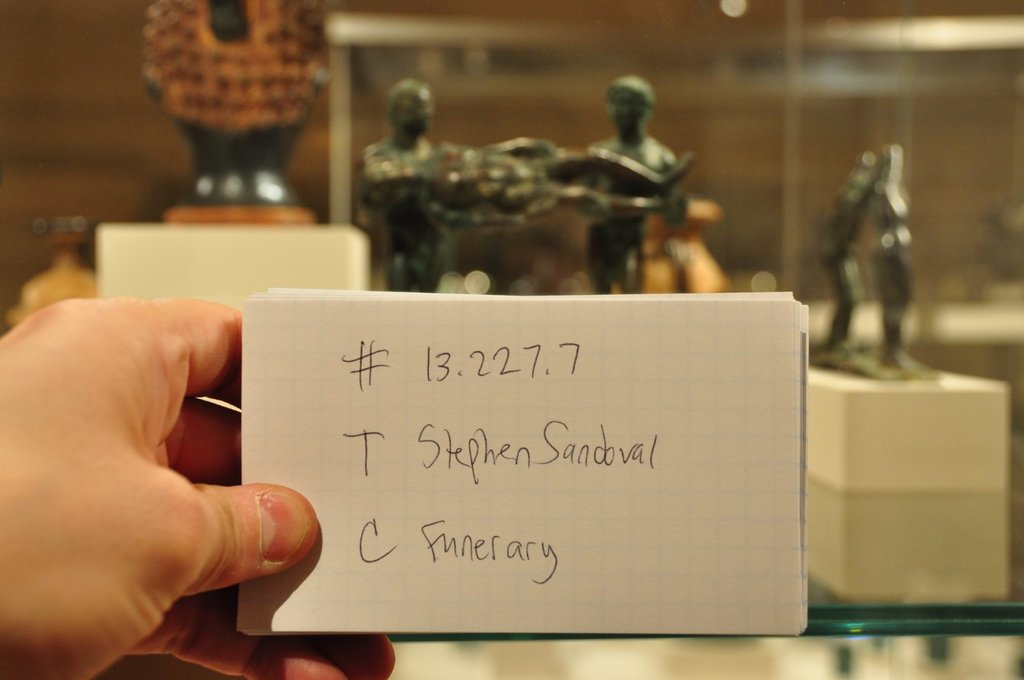Human-face: (409, 100, 433, 131), (613, 89, 632, 124)
